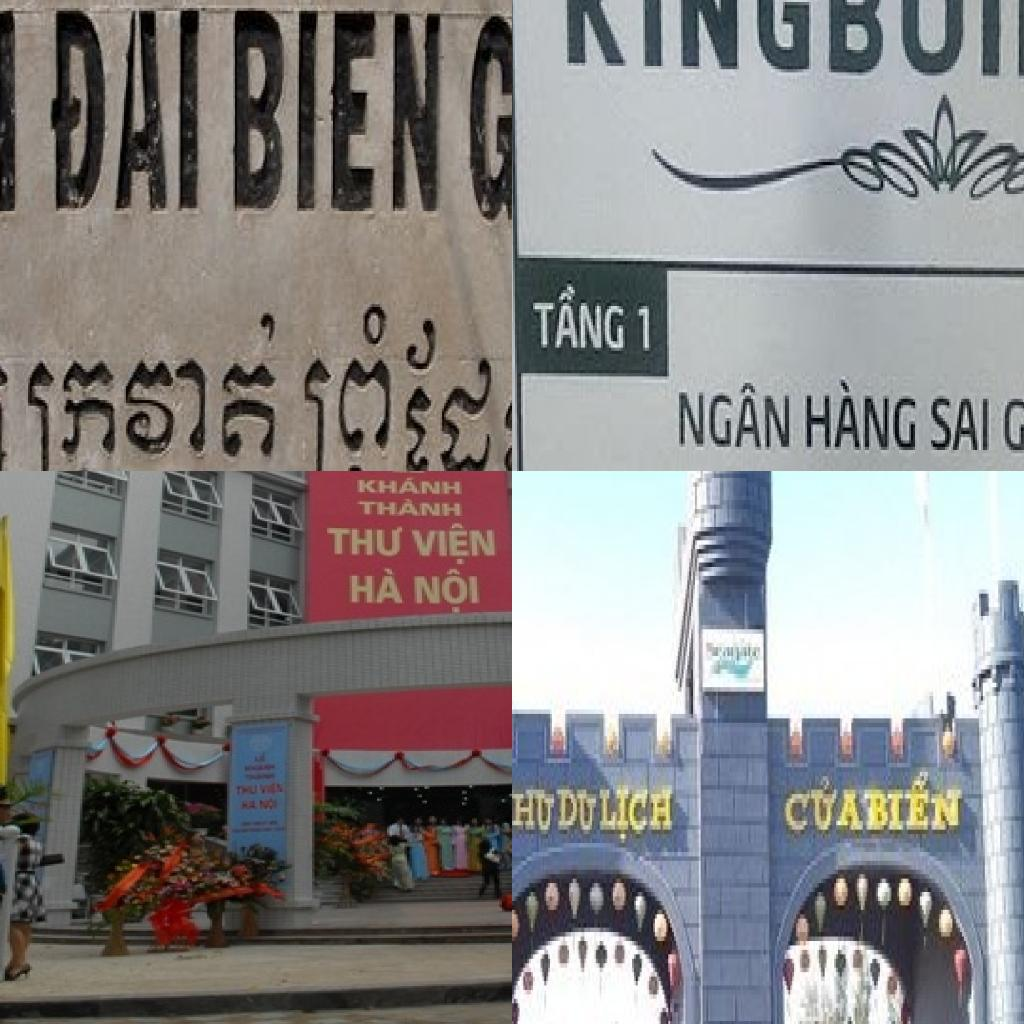text: (223, 0, 449, 225), (557, 0, 1024, 91), (45, 0, 207, 222), (799, 373, 921, 460), (671, 380, 795, 460), (529, 280, 631, 360), (780, 772, 866, 847), (596, 776, 676, 856), (925, 392, 997, 460), (409, 523, 497, 567), (512, 771, 557, 838), (324, 524, 404, 559), (556, 781, 600, 843), (357, 497, 465, 518), (354, 477, 464, 497), (350, 568, 407, 605), (999, 389, 1024, 466), (635, 303, 657, 360), (260, 780, 287, 796), (234, 784, 260, 797)
